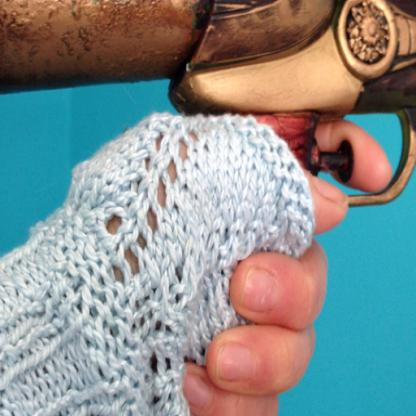gun: (0, 0, 415, 209)
